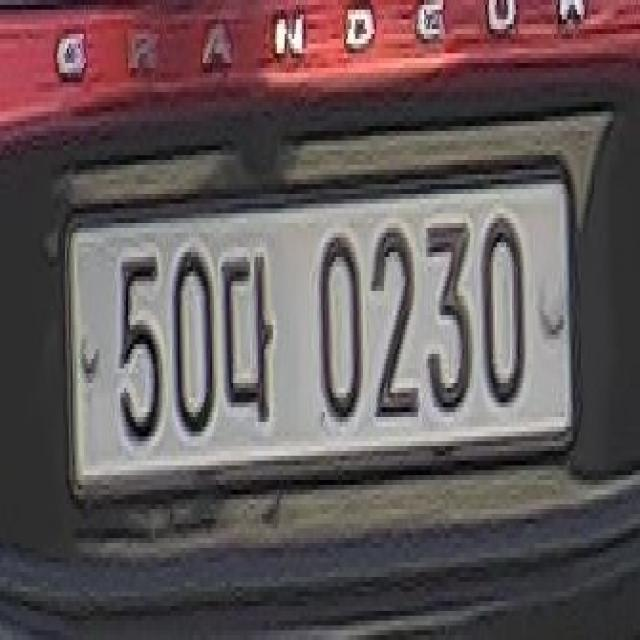0: (318, 212, 366, 438), (481, 208, 532, 420), (172, 230, 217, 442)
2: (368, 213, 421, 433)
3: (422, 210, 474, 423)
5: (114, 235, 169, 452)
da: (220, 224, 282, 432)
license_plate: (63, 183, 579, 483)
